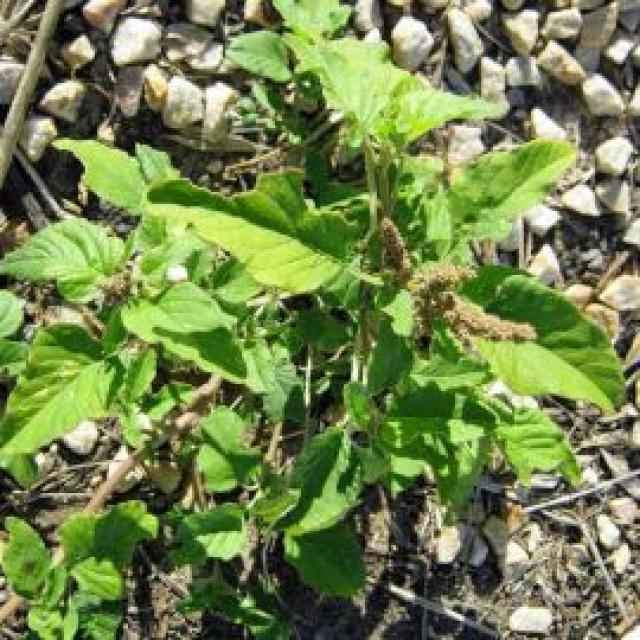Medicinal-Arive Dantu: (167, 164, 625, 428), (2, 214, 267, 402)
